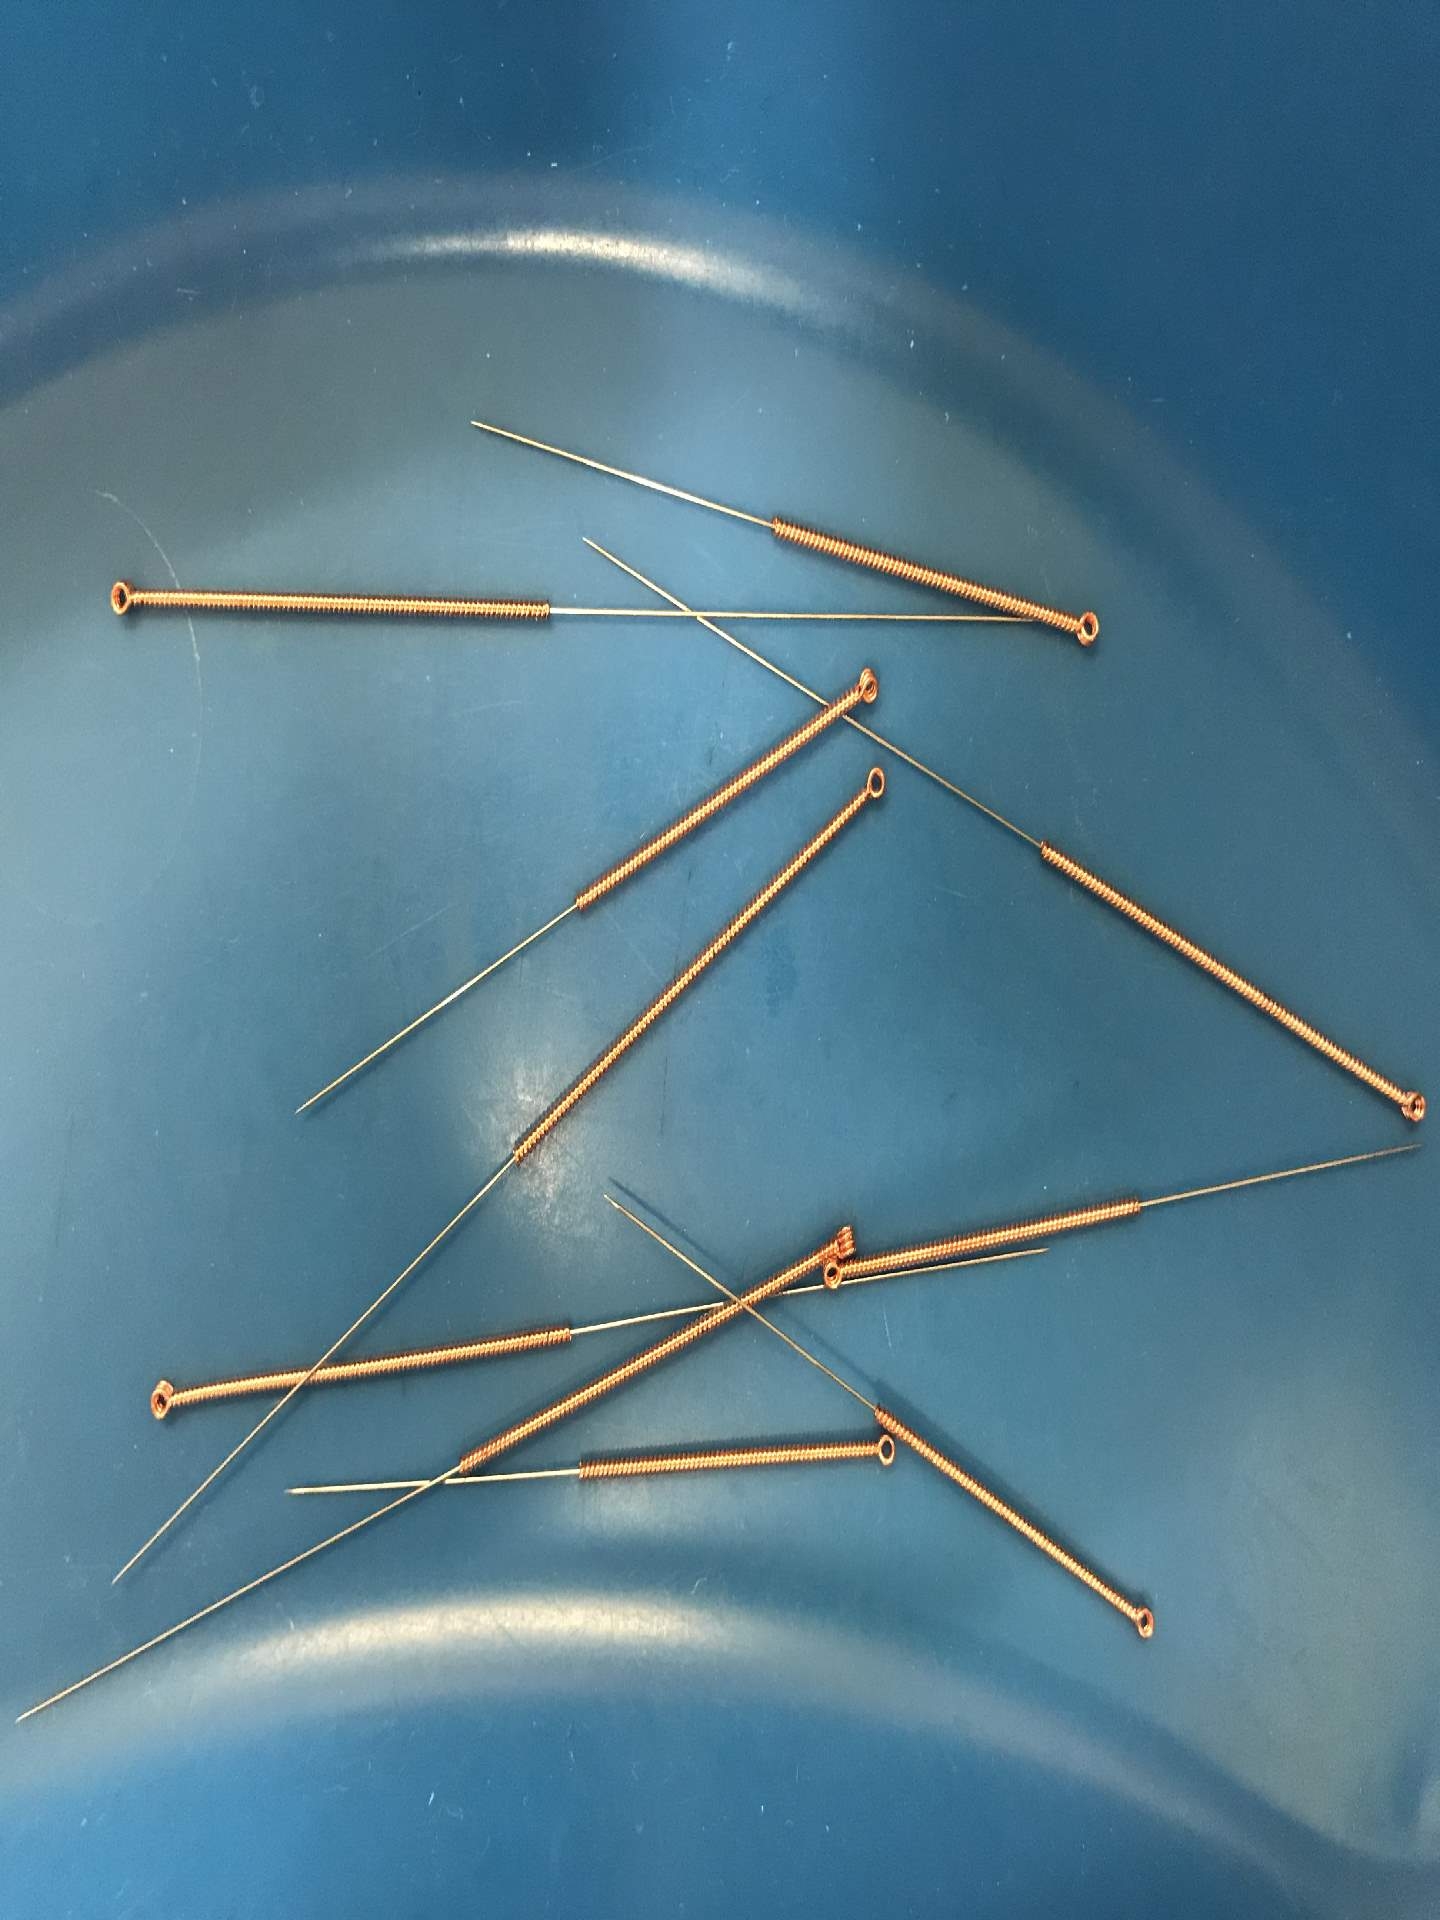needle: (1106, 1587, 1171, 1654), (92, 565, 154, 630), (1051, 596, 1113, 661), (1373, 1075, 1438, 1135), (133, 1370, 192, 1430), (832, 658, 892, 715), (847, 757, 898, 810), (855, 1427, 903, 1476), (821, 1215, 862, 1262), (818, 1256, 861, 1299)
